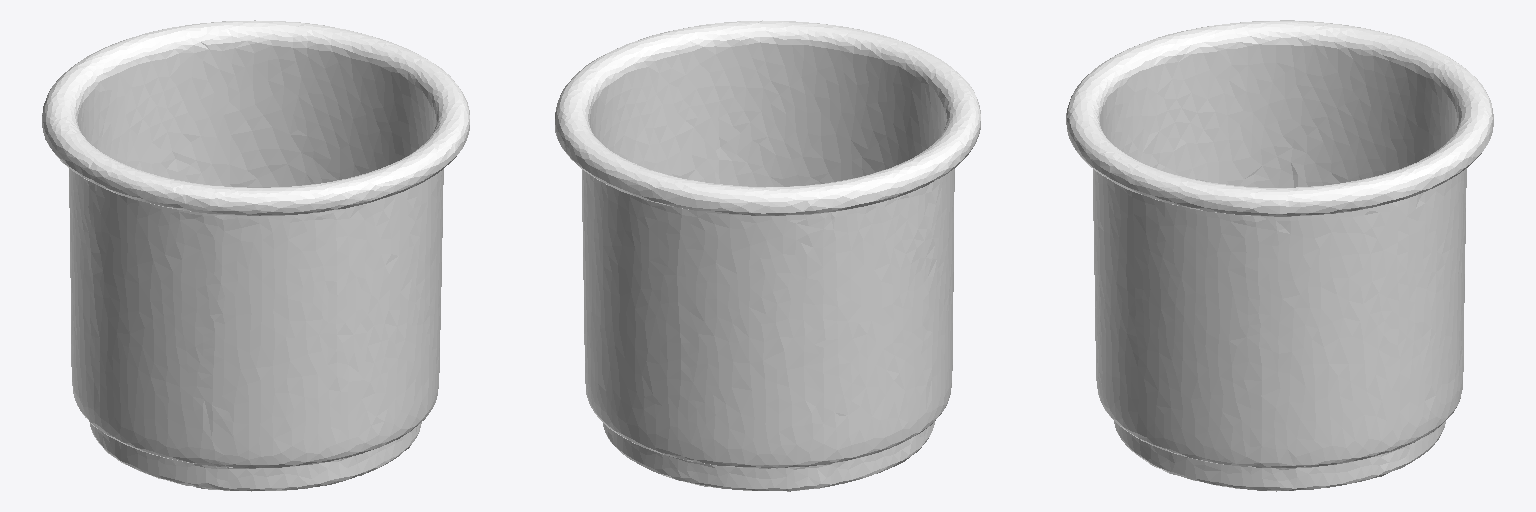
The robot description file, URDF, robot "061_foam_brick":
<robot name="061_foam_brick">
	<link name="_name">
		<visual>
			<origin xyz="0.1862531574247814 -0.169548779068304 -0.246441505284604" rpy="0 0 0" />
			<geometry>
				<mesh filename="061_foam_brick/google_16k/textured.obj" scale="10 10 10" />
			</geometry>
			<material name="texture">
				<color rgba="1.0 1.0 1.0 1.0" />
			</material>
		</visual>
		<collision>
			<geometry>
				<mesh filename="061_foam_brick/google_16k/textured_vhacd.obj" scale="10 10 10" />
			</geometry>
		<origin xyz="0.1862531574247814 -0.169548779068304 -0.246441505284604" rpy="0 0 0" /></collision>
		<inertial>
			<mass value="1.0" />
			<inertia ixx="1.0" ixy="0.0" ixz="0.0" iyy="1.0" iyz="0.0" izz="1.0" />
		</inertial>
	</link>
</robot>

--- Facts derived from the render (not from the file) ---
The picture shows the robot from 3 angles, left to right: view 1: azimuth 30°, elevation 25°; view 2: azimuth 150°, elevation 25°; view 3: azimuth 270°, elevation 25°; orthographic projection.
Model 061_foam_brick with 1 links and 0 joints (none), rooted at _name, posed all joints at 0.
Visible links, largest first — view 1: _name; view 2: _name; view 3: _name.
Link boxes in pixels (x1,y1,x2,y2): _name: [42, 20, 469, 491]; _name: [555, 20, 980, 491]; _name: [1066, 20, 1493, 491].
Size in the robot's own frame: 0.915 by 0.9162 by 0.7506 metres.
1 mesh visuals loaded from 1 distinct referenced files (1 OBJ).